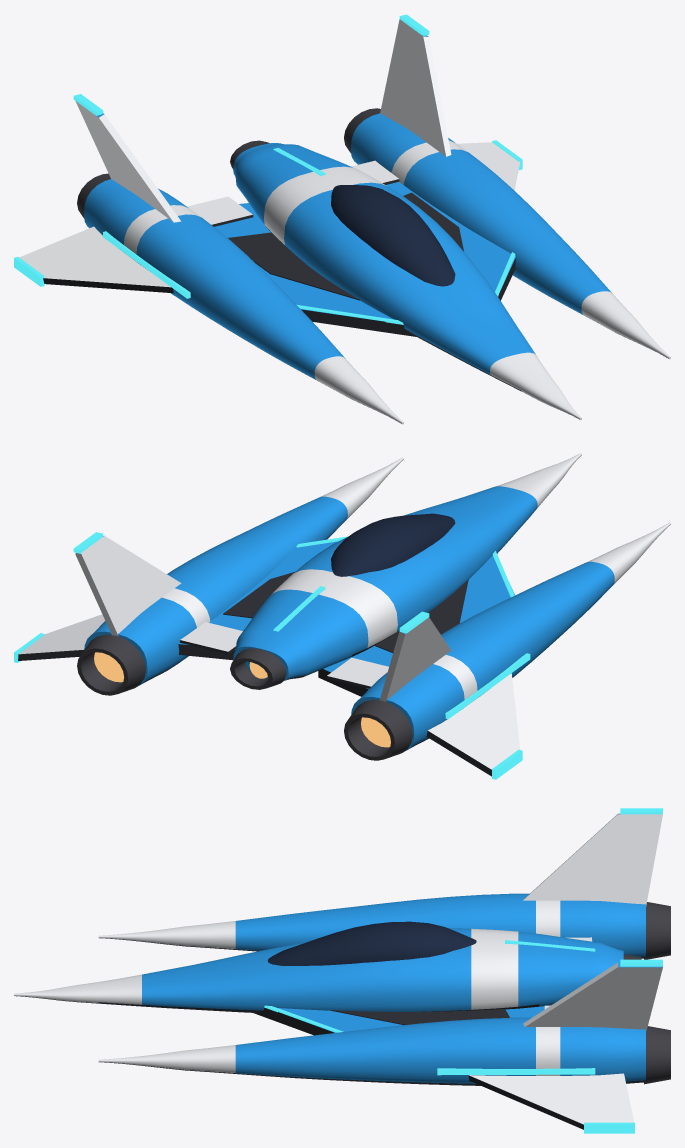
The model's file is ship.glb.
3 renders of one model, top to bottom at view 1: azimuth 30°, elevation 25°; view 2: azimuth 150°, elevation 25°; view 3: azimuth 270°, elevation 25°, orthographic. The views are drawn at different scales.
Parts seen in each view (by area): view 1: hull, airbrake_R; view 2: hull, airbrake_L, airbrake_R; view 3: hull.
Part boxes in pixels (left/top/right/bottom): hull: left=14, top=14, right=670, bottom=424; airbrake_R: left=187, top=196, right=253, bottom=226; hull: left=14, top=453, right=670, bottom=779; airbrake_L: left=180, top=622, right=242, bottom=654; airbrake_R: left=327, top=657, right=388, bottom=688; hull: left=14, top=808, right=670, bottom=1133.
Size of the model in its own units: 4.7 by 1.33 by 5.82.
